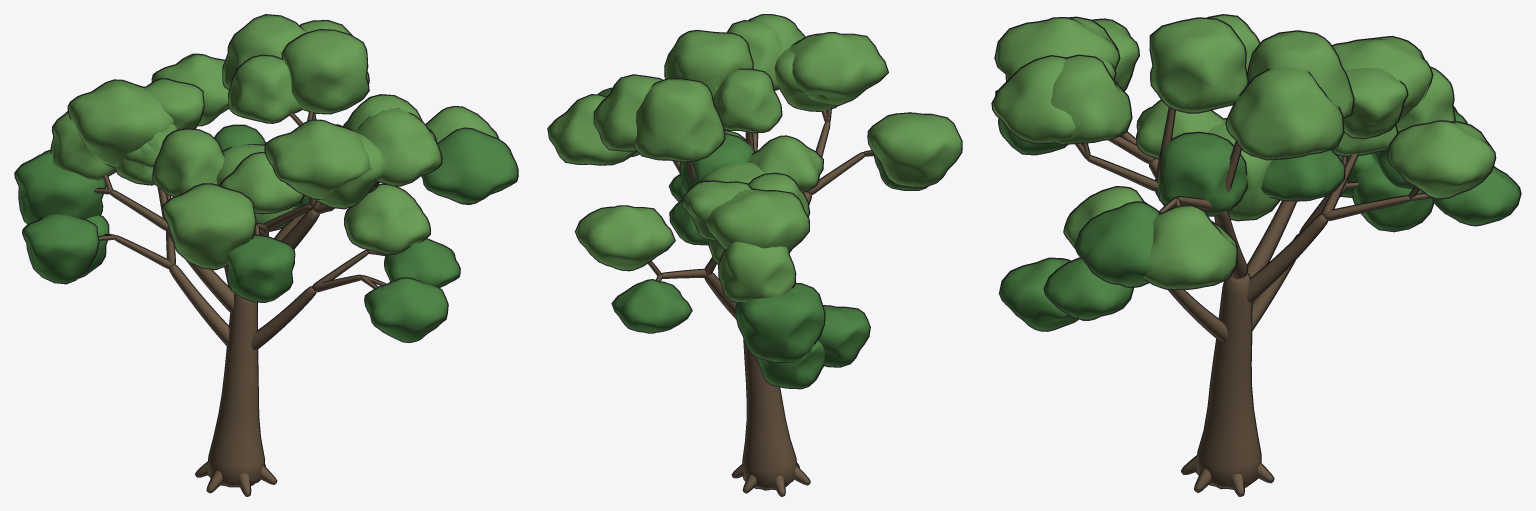
File: tree.fbx
3 renders of one model, left to right at view 1: azimuth 30°, elevation 25°; view 2: azimuth 150°, elevation 25°; view 3: azimuth 270°, elevation 25°, orthographic. The views are drawn at different scales.
Visible parts, largest first — view 1: Tree_CanopyLight, Tree_CanopyDark, Tree_Wood; view 2: Tree_CanopyLight, Tree_CanopyDark, Tree_Wood; view 3: Tree_CanopyLight, Tree_CanopyDark, Tree_Wood.
Part boxes in pixels (x1,y1,x2,y2): Tree_CanopyLight: (50,14,499,270); Tree_CanopyDark: (14,124,518,342); Tree_Wood: (94,111,388,496); Tree_CanopyLight: (547,14,962,303); Tree_CanopyDark: (597,87,928,389); Tree_Wood: (648,108,874,496); Tree_CanopyLight: (991,14,1496,290); Tree_CanopyDark: (995,90,1521,331); Tree_Wood: (1075,107,1432,496).
Size of the model in its own units: 703 by 735 by 713.
